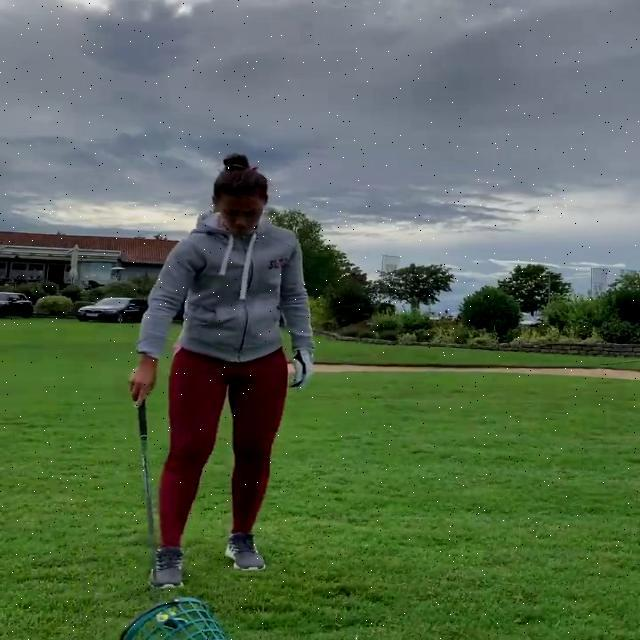ClubHandle: (133, 392, 170, 610)
GolfBall: (154, 614, 170, 622)
